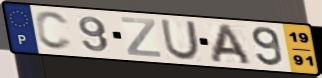9: (250, 26, 284, 68), (76, 15, 109, 53)
A: (208, 22, 254, 66)
C: (33, 10, 75, 52)
U: (159, 18, 202, 61)
Z: (119, 16, 163, 59)
